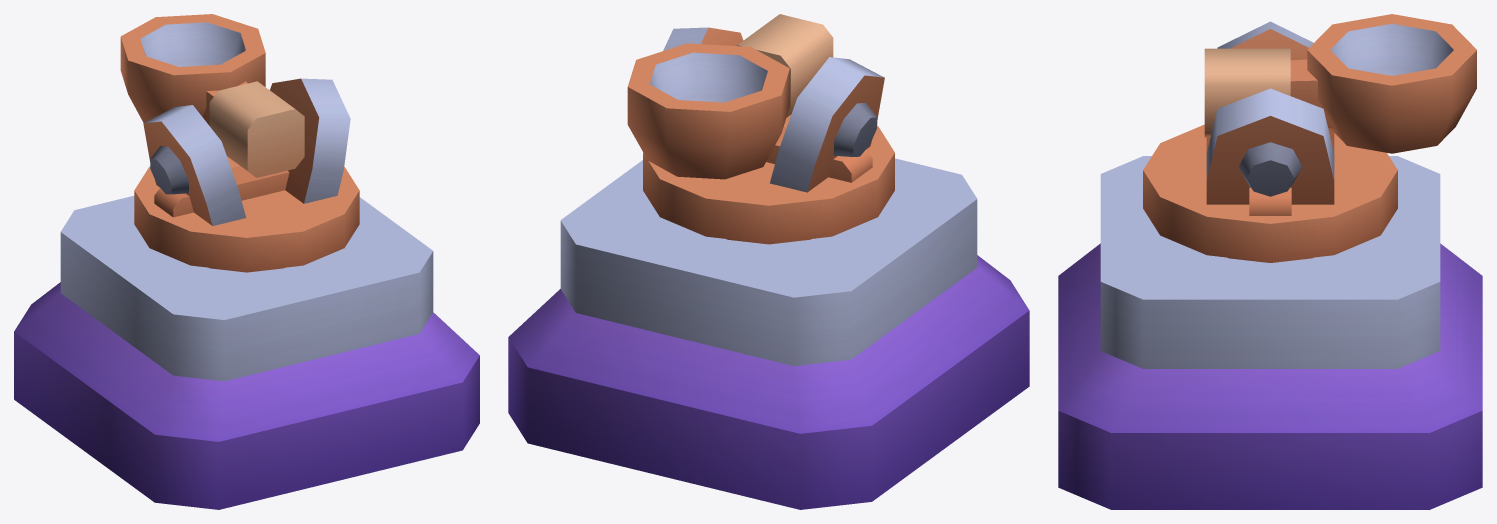
File: tower-3-0.glb
The picture shows the model from 3 angles, left to right: view 1: azimuth 30°, elevation 25°; view 2: azimuth 150°, elevation 25°; view 3: azimuth 270°, elevation 25°; orthographic projection. The views are drawn at different scales.
Parts seen in each view (by area): view 1: tower:3-0; view 2: tower:3-0; view 3: tower:3-0.
Part boxes in pixels (x1=…): tower:3-0: x1=14, y1=14, x2=479, y2=509; tower:3-0: x1=508, y1=14, x2=1029, y2=509; tower:3-0: x1=1058, y1=14, x2=1482, y2=509.
Size of the model in its own units: 2.4 by 2.31 by 2.4.
Materials: 1 (1 with a texture image).
